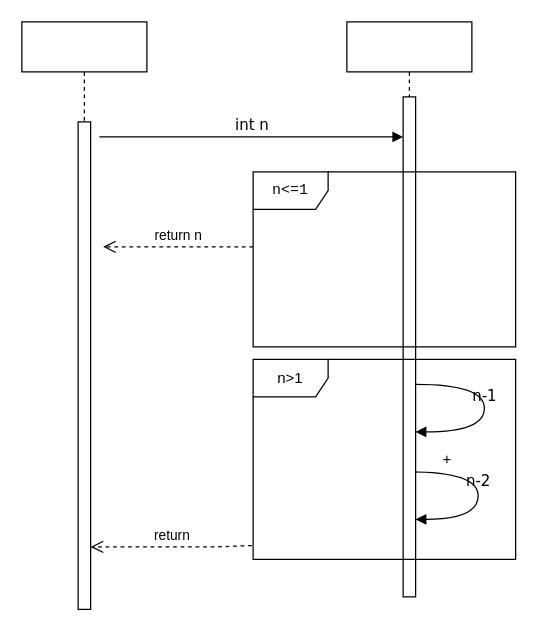
The diagram is 538 pixels wide and 631 high, and some of its shapes have lost their labels. The shapes that lost their labels are listed below. From the top down, each one's centre as x and y in pixels, then its label:
the point at 84,71: Fibonacci
the point at 409,59: fibonacciRecursive
